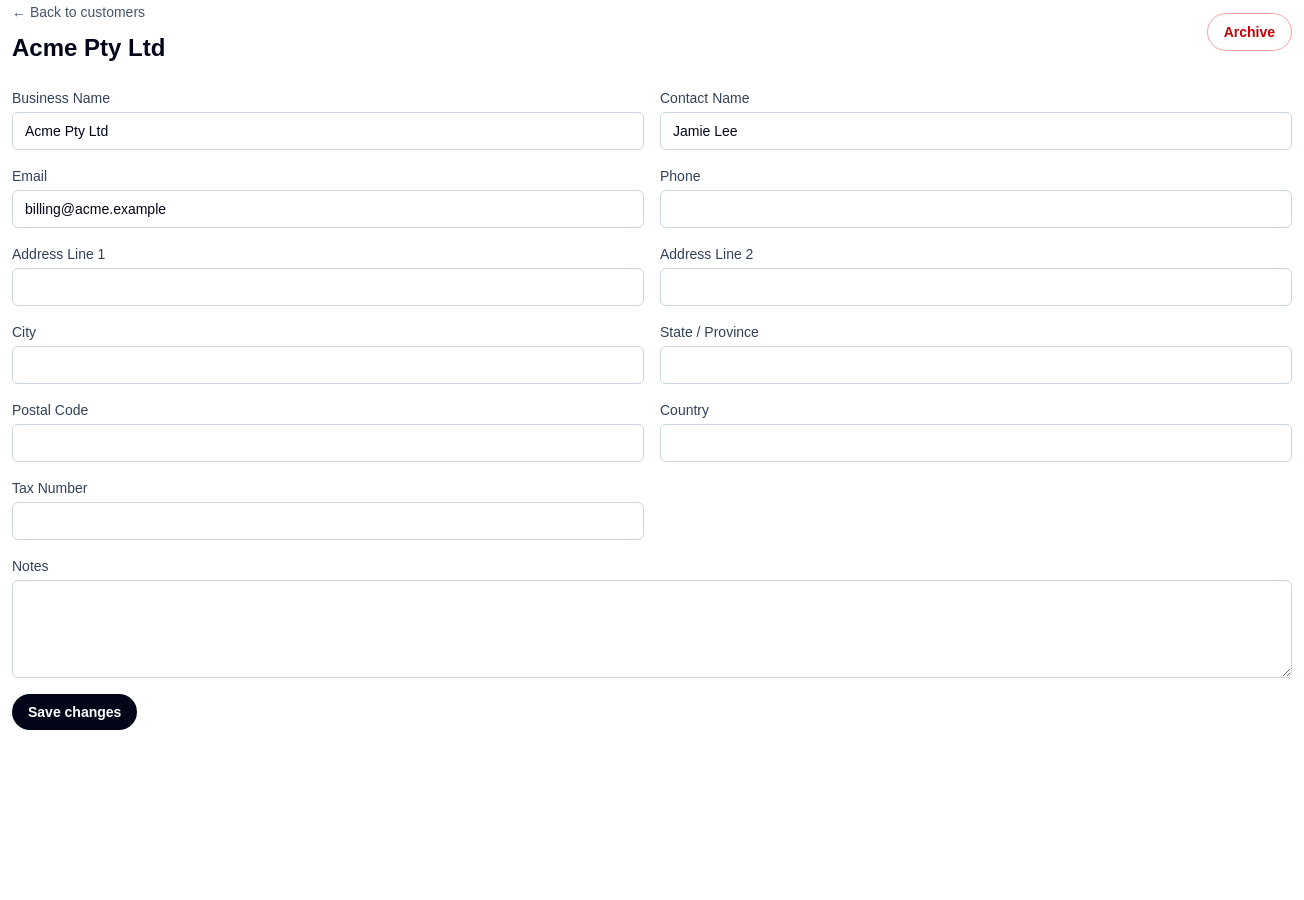
it: CustomerDetail › archives the customer and shows the Archived badge
This screenshot has width=1304, height=900.
Step 1. Click the button "Archive" → (1249, 32), box [1207,13,1292,51]
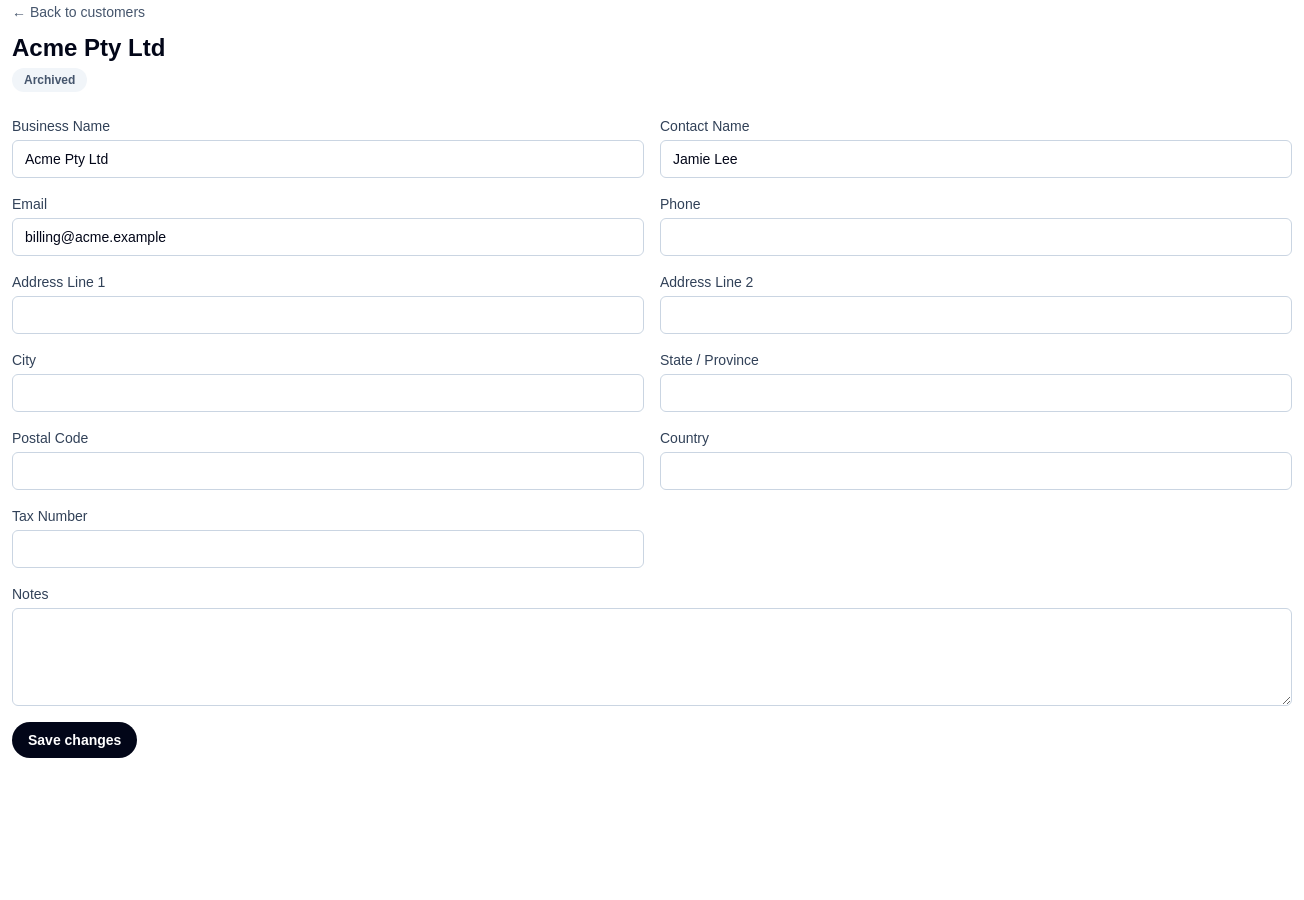
expect the text "Archived" is shown: met, box [12,68,87,92]
